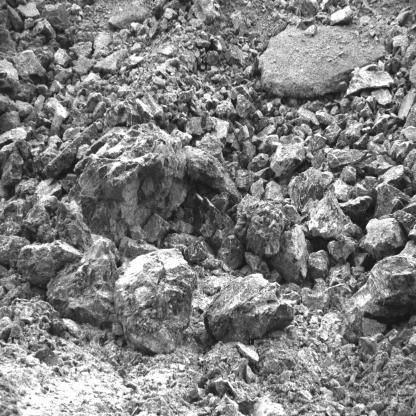stone: (113, 247, 196, 355), (205, 274, 296, 343), (46, 240, 117, 323), (346, 253, 416, 319), (17, 240, 84, 290), (308, 191, 362, 240), (271, 225, 311, 284), (358, 217, 407, 259), (289, 167, 333, 212), (345, 63, 398, 97), (270, 142, 305, 177), (374, 184, 410, 218), (194, 197, 223, 239), (106, 99, 151, 124), (12, 50, 47, 81), (216, 235, 246, 269), (326, 148, 368, 171), (183, 236, 216, 265), (32, 177, 62, 206), (341, 196, 372, 224), (1, 152, 24, 189), (327, 236, 358, 263), (202, 117, 229, 146), (43, 2, 71, 29), (95, 49, 127, 72), (144, 214, 170, 241), (195, 133, 224, 156), (309, 250, 330, 279), (163, 233, 198, 250), (377, 165, 404, 186), (45, 97, 68, 121), (330, 180, 354, 202), (388, 140, 412, 161), (264, 181, 285, 204), (329, 6, 353, 26), (305, 132, 327, 153), (247, 153, 270, 173), (322, 122, 342, 145), (119, 56, 144, 74), (235, 168, 253, 193), (236, 93, 253, 119), (76, 55, 97, 76), (225, 46, 245, 67), (168, 219, 194, 235), (370, 88, 393, 106), (216, 98, 237, 117), (184, 117, 205, 136), (339, 165, 357, 185), (69, 41, 92, 56), (17, 2, 40, 17), (54, 48, 72, 67), (352, 132, 369, 150), (249, 180, 264, 200), (234, 125, 250, 142), (203, 51, 221, 66), (177, 89, 194, 103), (315, 112, 332, 125), (359, 103, 373, 117), (195, 37, 211, 49), (160, 8, 177, 19), (49, 80, 62, 93), (303, 24, 317, 36), (227, 85, 239, 99), (220, 74, 232, 87), (112, 323, 123, 336), (352, 266, 366, 276), (24, 18, 35, 30), (329, 106, 339, 115), (129, 22, 139, 31)
